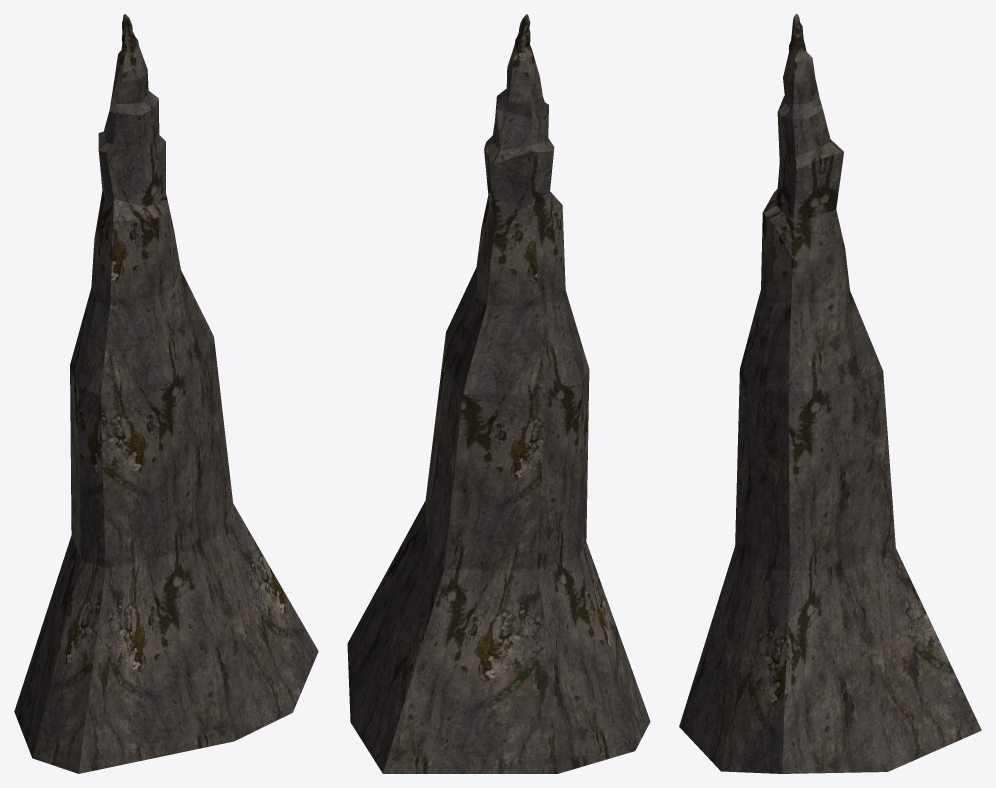
File: rock1.glb
3 renders of one model, left to right at view 1: azimuth 30°, elevation 25°; view 2: azimuth 150°, elevation 25°; view 3: azimuth 270°, elevation 25°, orthographic.
Visible parts, largest first — view 1: rock01; view 2: rock01; view 3: rock01.
Boxes of the visible parts, x1,y1,x2,y2 form: rock01: (14,14,318,773); rock01: (347,14,650,773); rock01: (679,14,981,773).
Bounding box in the file's own units: 157 × 375 × 145.
Materials: 1 (1 with a texture image).
